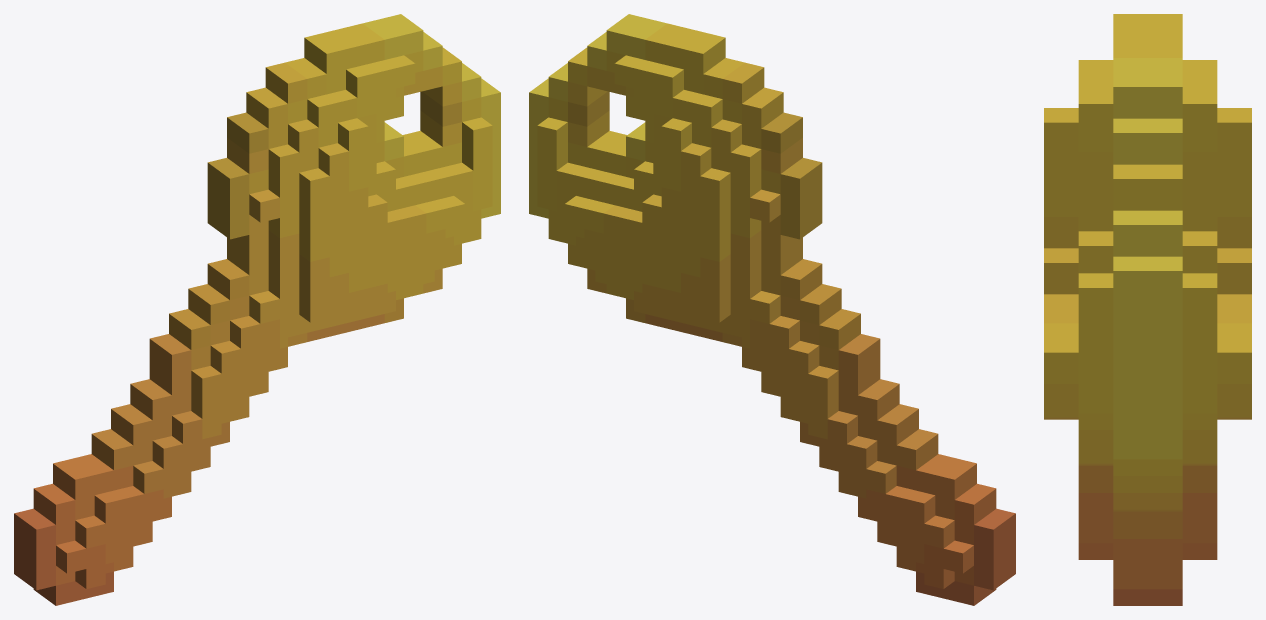
File: key.glb
The picture shows the model from 3 angles, left to right: view 1: azimuth 30°, elevation 25°; view 2: azimuth 150°, elevation 25°; view 3: azimuth 270°, elevation 25°; orthographic projection. The views are drawn at different scales.
Parts seen in each view (by area): view 1: prop; view 2: prop; view 3: prop.
Part boxes in pixels (x1,y1,x2,y2): prop: (14,14,500,605); prop: (529,14,1015,605); prop: (1044,14,1251,605).
Bounding box in the file's own units: 16 × 16 × 4.
